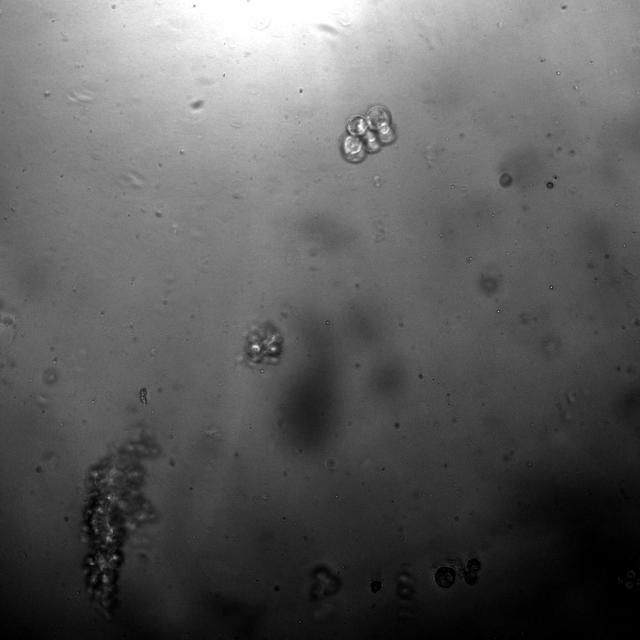organoid: (82, 428, 160, 614), (340, 105, 396, 163), (432, 555, 482, 590), (244, 321, 284, 364), (368, 578, 382, 594)
